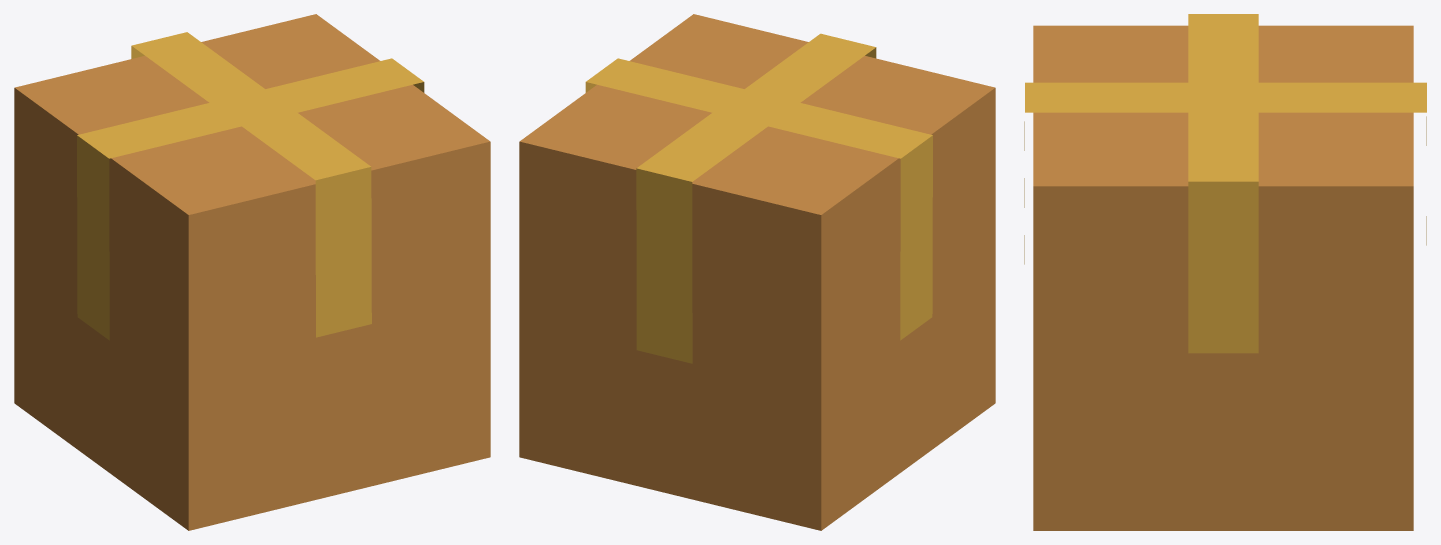
3 views of the same model, side by side, from view 1: azimuth 30°, elevation 25°; view 2: azimuth 150°, elevation 25°; view 3: azimuth 270°, elevation 25° (orthographic). The views are drawn at different scales.
Parts seen in each view (by area): view 1: Cube, Plane, Plane.001; view 2: Cube, Plane, Plane.001; view 3: Cube, Plane.001, Plane.
Boxes of the visible parts, x1=… form: Cube: x1=14, y1=14, x2=490, y2=530; Plane: x1=131, y1=32, x2=371, y2=337; Plane.001: x1=77, y1=58, x2=424, y2=340; Cube: x1=519, y1=14, x2=995, y2=530; Plane: x1=636, y1=33, x2=876, y2=363; Plane.001: x1=585, y1=58, x2=932, y2=340; Cube: x1=1033, y1=25, x2=1413, y2=530; Plane.001: x1=1188, y1=14, x2=1258, y2=353; Plane: x1=1024, y1=82, x2=1426, y2=264.
Bounding box in the file's own units: 595 × 582 × 602.
